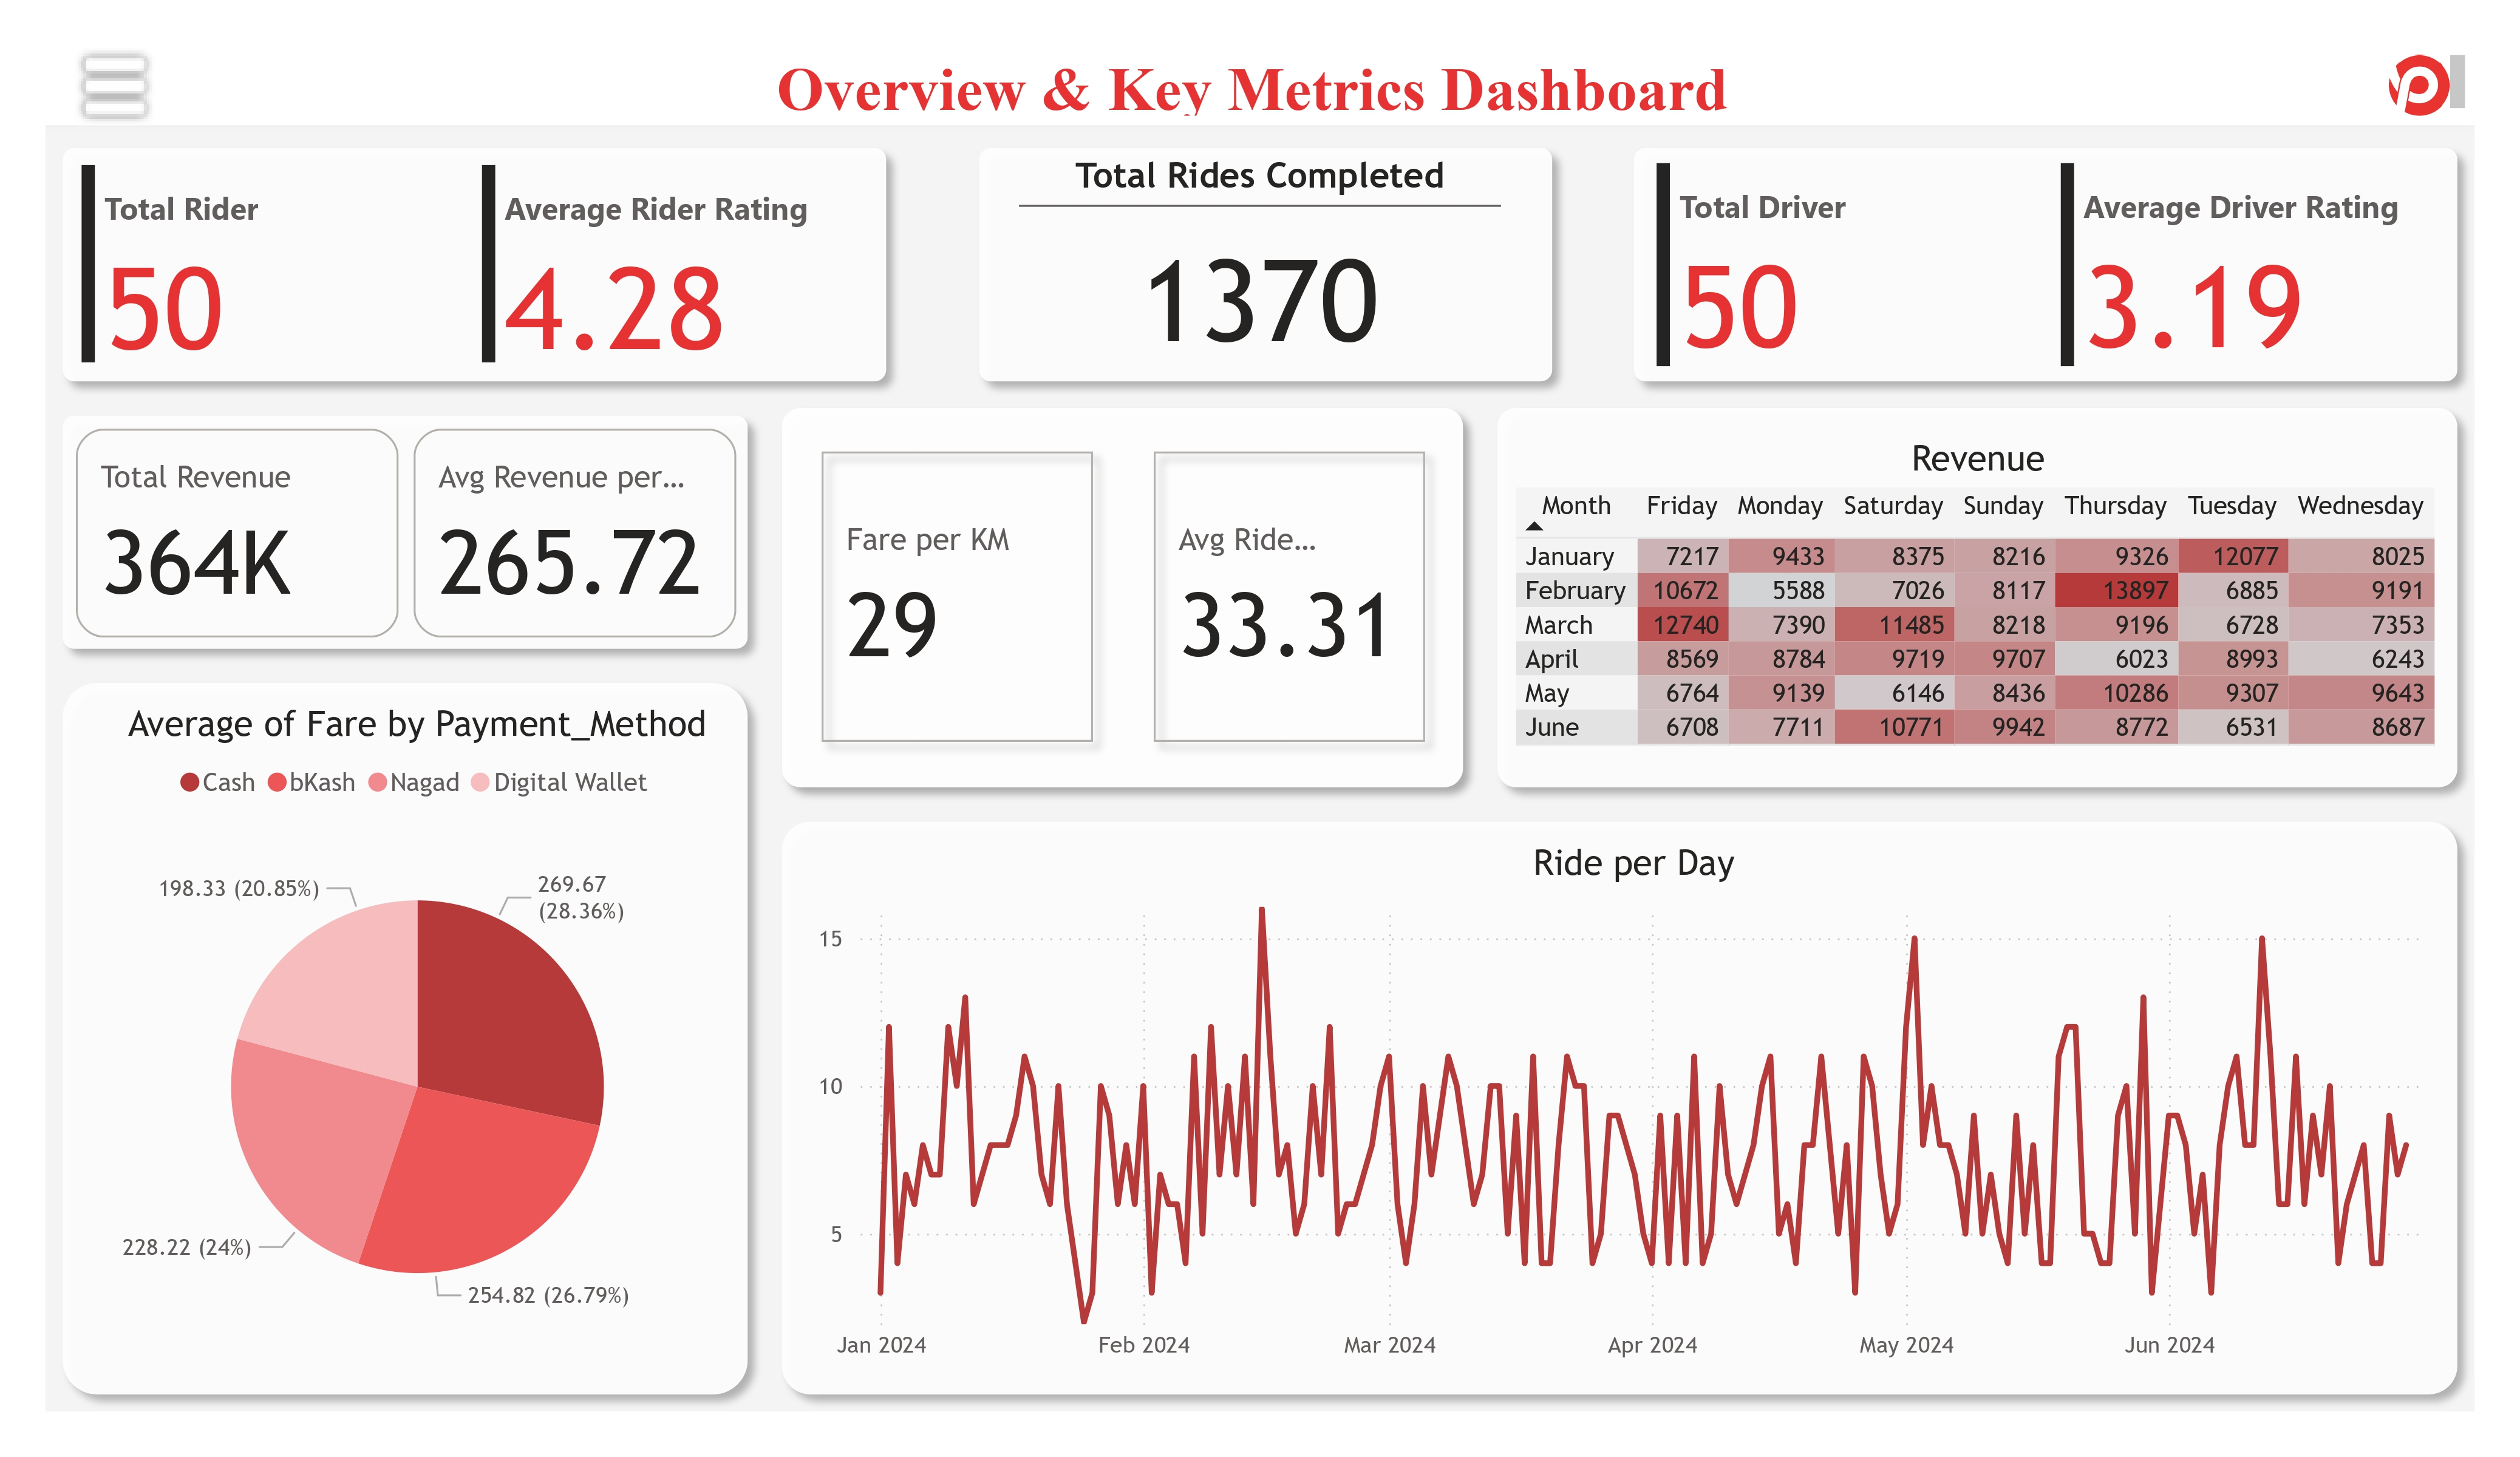

What the dashboard file says about the page in this screenshot:
{"tool":"powerbi","page":{"name":"Key Metrics","canvas":[1280,720],"ordinal":0},"visuals":[{"type":"shape","box":[0,326.7,379.4,393.8],"z":0},{"type":"shape","box":[379.4,400.5,900.6,320],"z":1000},{"type":"shape","box":[827.8,45,452.2,140.8],"z":2000},{"type":"shape","box":[755.9,182,524.1,218.4],"z":3000},{"type":"shape","box":[482.9,45,320,140.8],"z":4000},{"type":"shape","box":[0,185.9,379.4,140.8],"z":5000},{"type":"shape","box":[0,45,452.2,140.8],"z":6000},{"type":"textbox","box":[0,0,1280,41.8],"z":7000},{"type":"cardVisual","title":"Total Drivers","fields":{"Data":["CountNonNull(Riders.Rider_ID)","Avg(Riders.Rider_Rating)"]},"box":[14.4,58.4,423.5,114],"z":8000},{"type":"card","title":"Total Rides Completed","fields":{"Values":["CountNonNull(Rides.Ride_ID)"]},"box":[512.9,57.1,254.3,117.1],"z":9000},{"type":"image","box":[1229.4,0,42.8,41.8],"z":10000},{"type":"cardVisual","title":"Total Drivers","fields":{"Data":["CountNonNull(Drivers.Driver_ID)","Avg(Drivers.Driver_Rating)"]},"box":[844.1,57.5,429.2,116.9],"z":11000},{"type":"cardVisual","title":"Total Drivers","fields":{"Data":["Sum(Rides.Fare)","Avg(Rides.Fare)"]},"box":[10.5,197.4,358.3,119.8],"z":12000},{"type":"lineChart","title":"Ride per Day","fields":{"Category":["Rides.Ride_Date.Variation.Date Hierarchy.Year"],"Y":["CountNonNull(Rides.Ride_ID)"]},"box":[401.4,418.7,871.9,282.6],"z":13000},{"type":"pieChart","fields":{"Y":["Avg(Rides.Fare)"],"Category":["Rides.Payment_Method"]},"box":[29.7,345.9,332.5,355.4],"z":14000},{"type":"pivotTable","title":"Revenue","fields":{"Rows":["Rides.Ride_Date.Variation.Date Hierarchy.Month"],"Columns":["Rides.Ride_Day"],"Values":["Sum(Rides.Fare)"]},"box":[770.3,206,496.3,178.2],"z":15000},{"type":"actionButton","box":[13.3,1.1,45.4,41],"z":16000},{"type":"shape","box":[379.4,182,376.5,218.4],"z":19000},{"type":"cardVisual","title":"Total Drivers","fields":{"Data":["Rides.Fare per Distance","Avg(Rides.Duration)"]},"box":[391.9,197.4,352.6,186.8],"z":20000}]}

Visuals, with their boxes on the page's 1280x720 design canvas (x1, y1, x2, y2). These are canvas units, not pixel positions in the 2520x1457 screenshot, which may show the page scaled, cropped or inside an application window:
shape: (0, 327, 379, 720)
shape: (379, 400, 1280, 720)
shape: (828, 45, 1280, 186)
shape: (756, 182, 1280, 400)
shape: (483, 45, 803, 186)
shape: (0, 186, 379, 327)
shape: (0, 45, 452, 186)
textbox: (0, 0, 1280, 42)
"Total Drivers" cardVisual: (14, 58, 438, 172)
"Total Rides Completed" card: (513, 57, 767, 174)
image: (1229, 0, 1272, 42)
"Total Drivers" cardVisual: (844, 58, 1273, 174)
"Total Drivers" cardVisual: (10, 197, 369, 317)
"Ride per Day" lineChart: (401, 419, 1273, 701)
pieChart - Avg(Rides.Fare) x Rides.Payment_Method: (30, 346, 362, 701)
"Revenue" pivotTable: (770, 206, 1267, 384)
actionButton: (13, 1, 59, 42)
shape: (379, 182, 756, 400)
"Total Drivers" cardVisual: (392, 197, 744, 384)
